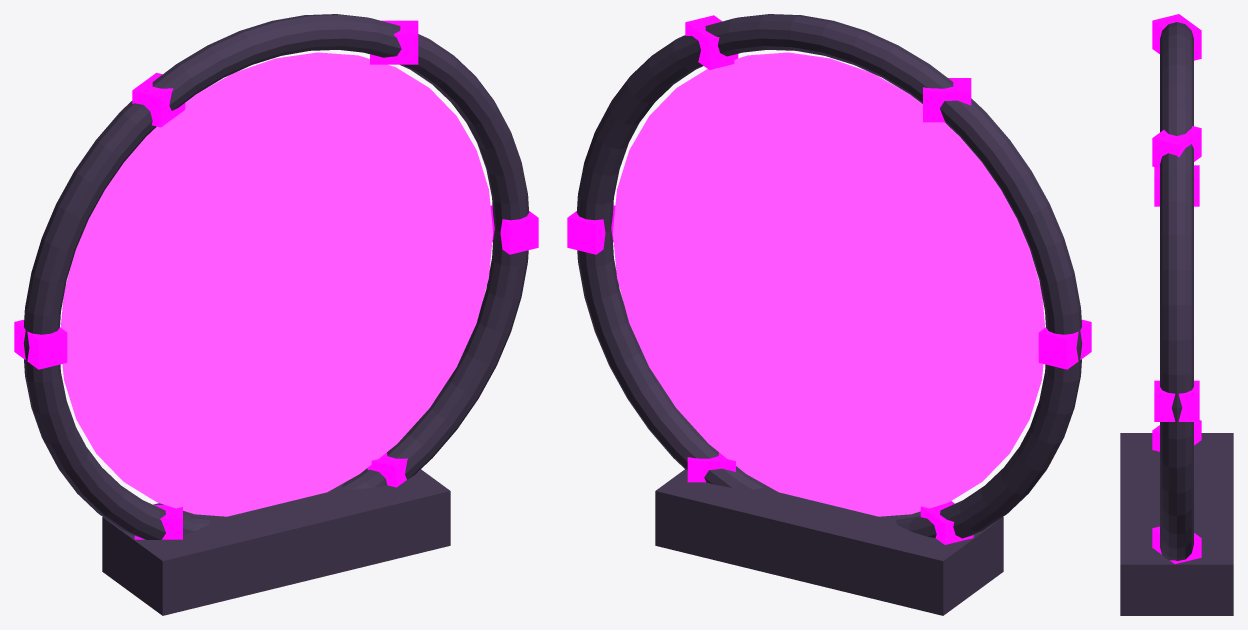
The model's file is FarcasterGate.glb.
The picture shows the model from 3 angles, left to right: view 1: azimuth 30°, elevation 25°; view 2: azimuth 150°, elevation 25°; view 3: azimuth 270°, elevation 25°; orthographic projection. The views are drawn at different scales.
Visible parts, largest first — view 1: Gate_Horizon_Aperture, Gate_Outer_Ring, Gate_Pedestal, Gate_Chevron_3, Gate_Chevron_2, Gate_Chevron_0, Gate_Chevron_1, Gate_Chevron_5, Gate_Chevron_4; view 2: Gate_Horizon_Aperture, Gate_Outer_Ring, Gate_Pedestal, Gate_Chevron_3, Gate_Chevron_0, Gate_Chevron_1, Gate_Chevron_2, Gate_Chevron_4, Gate_Chevron_5; view 3: Gate_Outer_Ring, Gate_Pedestal, Gate_Chevron_0, Gate_Chevron_1, Gate_Chevron_2, Gate_Chevron_5, Gate_Chevron_3, Gate_Chevron_4.
Boxes of the visible parts, box(x1,y1,x2,y2) form: Gate_Horizon_Aperture: box(60, 52, 492, 516); Gate_Outer_Ring: box(23, 14, 529, 539); Gate_Pedestal: box(102, 469, 450, 615); Gate_Chevron_3: box(14, 319, 67, 369); Gate_Chevron_2: box(132, 72, 185, 127); Gate_Chevron_0: box(490, 205, 538, 254); Gate_Chevron_1: box(370, 20, 418, 64); Gate_Chevron_5: box(367, 452, 419, 487); Gate_Chevron_4: box(134, 505, 182, 539); Gate_Horizon_Aperture: box(613, 52, 1045, 516); Gate_Outer_Ring: box(576, 14, 1082, 538); Gate_Pedestal: box(655, 469, 1003, 615); Gate_Chevron_3: box(1038, 319, 1091, 369); Gate_Chevron_0: box(567, 205, 615, 254); Gate_Chevron_1: box(685, 15, 738, 69); Gate_Chevron_2: box(923, 78, 971, 122); Gate_Chevron_4: box(920, 501, 973, 544); Gate_Chevron_5: box(687, 452, 735, 482); Gate_Outer_Ring: box(1160, 22, 1193, 560); Gate_Pedestal: box(1120, 433, 1233, 615); Gate_Chevron_0: box(1154, 380, 1199, 421); Gate_Chevron_1: box(1152, 126, 1201, 168); Gate_Chevron_2: box(1152, 14, 1201, 60); Gate_Chevron_5: box(1152, 526, 1201, 563); Gate_Chevron_3: box(1154, 165, 1199, 206); Gate_Chevron_4: box(1152, 420, 1201, 451).
Size of the model in its own units: 3.84 by 3.92 by 0.8.
